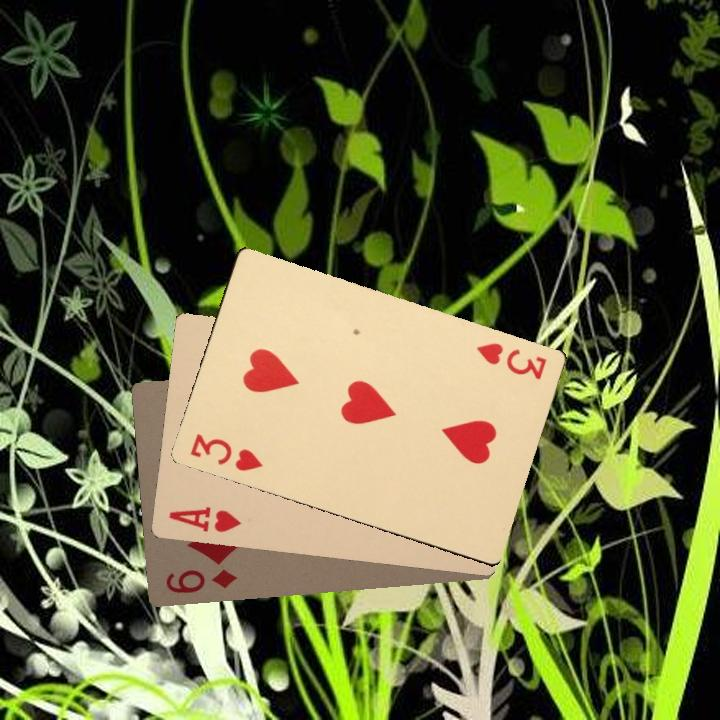3h: (186, 429, 265, 474), (472, 338, 549, 383)
6d: (161, 565, 240, 596)
Ah: (164, 503, 243, 535)
